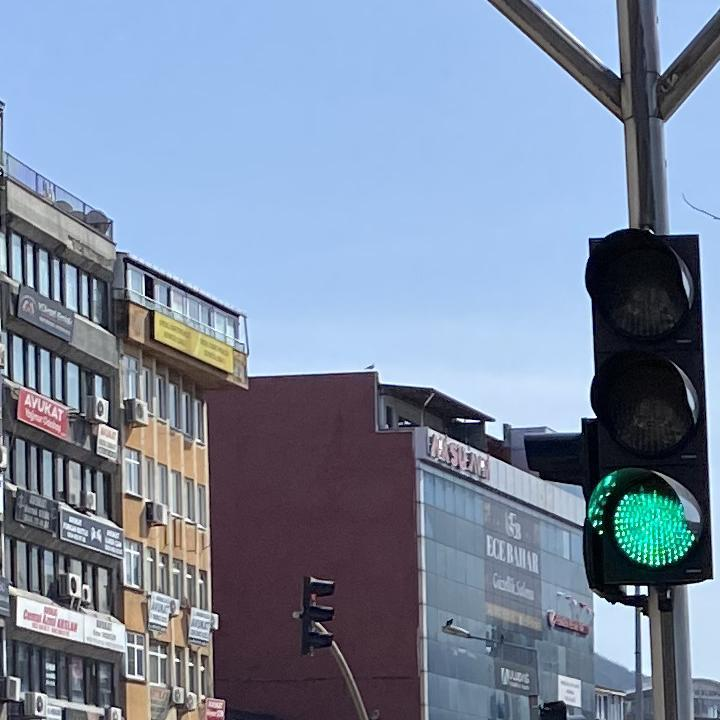green: (578, 227, 709, 596)
